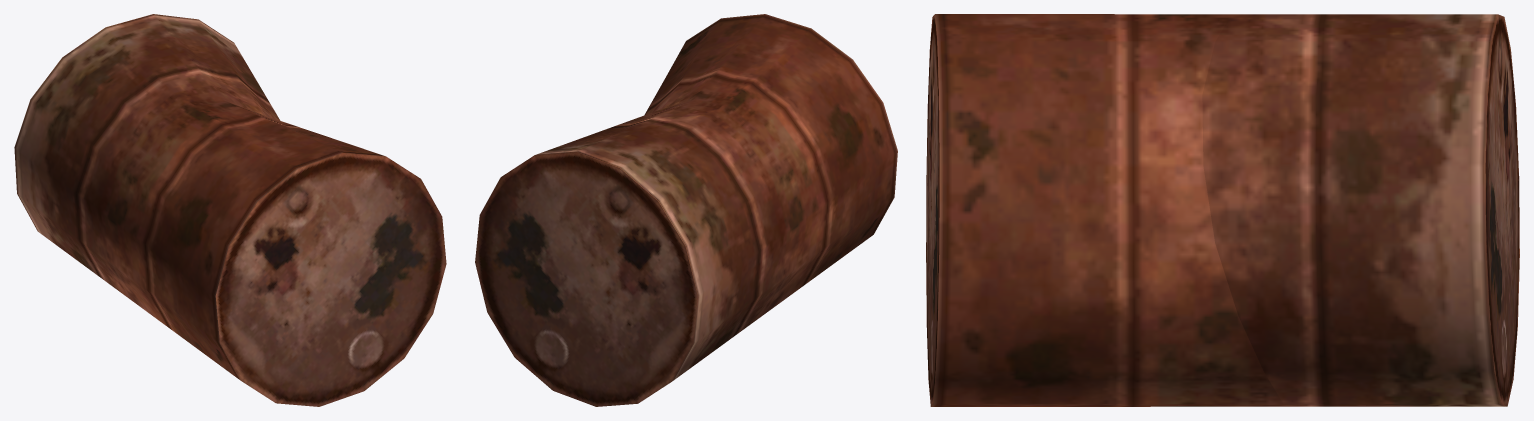
Rendered from od_single_on_side_dented_brown.fbx.
The picture shows the model from 3 angles, left to right: view 1: azimuth 30°, elevation 25°; view 2: azimuth 150°, elevation 25°; view 3: azimuth 270°, elevation 25°; orthographic projection. The views are drawn at different scales.
Visible parts, largest first — view 1: mesh_0; view 2: mesh_0; view 3: mesh_0.
Boxes of the visible parts, <box> form: mesh_0: <box>14,14,446,406</box>; mesh_0: <box>475,14,897,406</box>; mesh_0: <box>926,14,1519,406</box>.
Size of the model in its own units: 59.28 by 59.29 by 89.07.
Materials: 1 (1 with a texture image).
